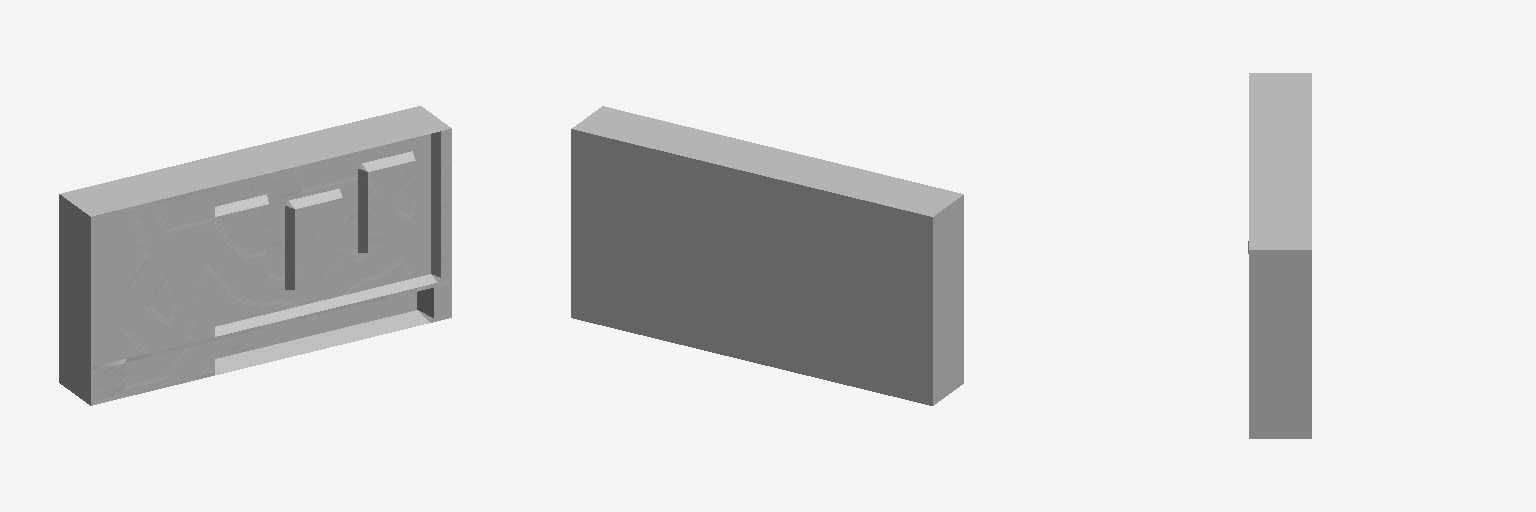
Rendered from rectangular_prism_bumps_6_9.obj.
3 views of the same model, side by side, from view 1: azimuth 30°, elevation 25°; view 2: azimuth 150°, elevation 25°; view 3: azimuth 270°, elevation 25° (orthographic).
Bounding box in the file's own units: 10 × 5 × 1.52.